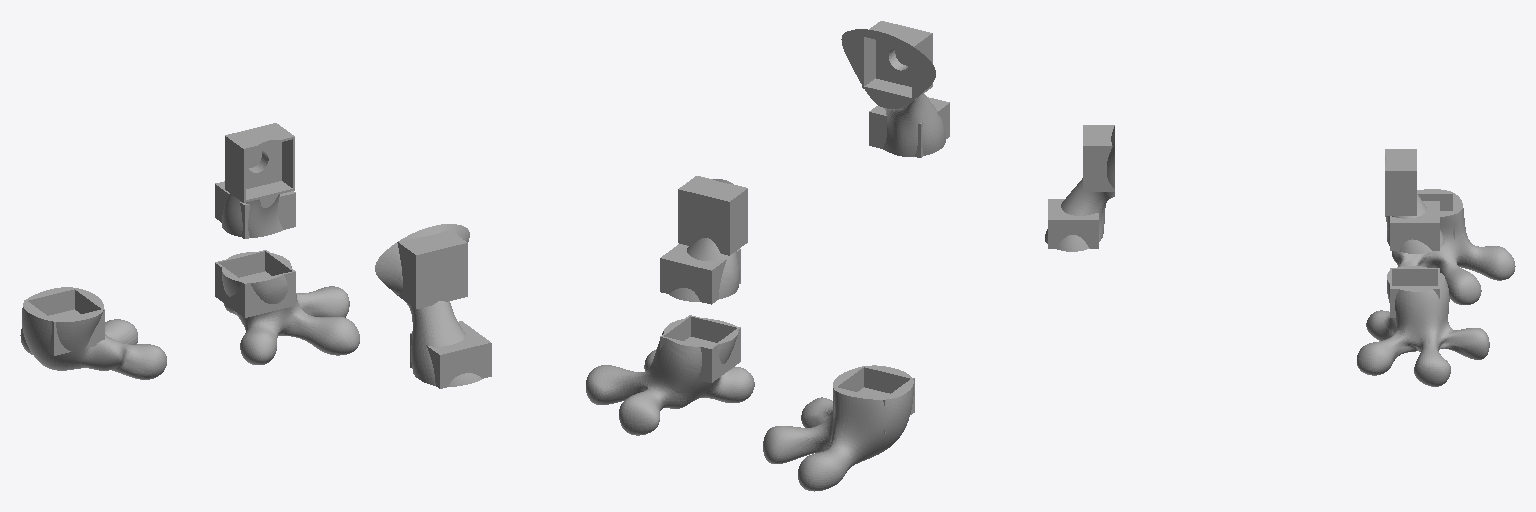
URDF robot description (FrogBot1_top-FrogBot1-y-0_bottom-FrogBot1-y-0):
<?xml version="1.0" ?>
<robot name="FrogBot1_top-FrogBot1-y-0_bottom-FrogBot1-y-0">

<material name="pla_5_percent_infill">
  <color rgba="0.700 0.700 0.700 1.000"/>
</material>

<link name="base_link">
  <inertial>
    <origin xyz="0 0 0" rpy="0 0 0"/>
    <mass value="1.4004497258118793"/>
    <inertia ixx="0.004654766674121702" iyy="0.011001674494048192" izz="0.011952500664607962" ixy="0.0001512981896173" iyz="8.432942841691681e-05" ixz="-0.0012085280118511537"/>
  </inertial>
  <visual>
    <origin xyz="0 0 0" rpy="0 0 0"/>
    <geometry>
      <mesh filename="simple_meshes/base_link.stl" scale="0.001 0.001 0.001"/>
    </geometry>
    <material name="pla_5_percent_infill"/>
  </visual>
  <collision>
    <origin xyz="0 0 0" rpy="0 0 0"/>
    <geometry>
      <mesh filename="simple_meshes/base_link.stl" scale="0.001 0.001 0.001"/>
    </geometry>
  </collision>
</link>

<link name="body_1_0_1">
  <inertial>
    <origin xyz="-0.045735 -0.109621 -0.00462" rpy="0 0 0"/>
    <mass value="0.02985675796874187"/>
    <inertia ixx="1.9965789332193075e-05" iyy="2.2269328809030093e-05" izz="1.237757588374124e-05" ixy="-3.4976885941156847e-07" iyz="1.6092377650222747e-06" ixz="3.671999030421702e-07"/>
  </inertial>
  <visual>
    <origin xyz="-0.045735 -0.109621 -0.00462" rpy="0 0 0"/>
    <geometry>
      <mesh filename="simple_meshes/body_1_0_1.stl" scale="0.001 0.001 0.001"/>
    </geometry>
    <material name="pla_5_percent_infill"/>
  </visual>
  <collision>
    <origin xyz="-0.045735 -0.109621 -0.00462" rpy="0 0 0"/>
    <geometry>
      <mesh filename="simple_meshes/body_1_0_1.stl" scale="0.001 0.001 0.001"/>
    </geometry>
  </collision>
</link>

<link name="body_1_1_1">
  <inertial>
    <origin xyz="0.086489 -0.109621 -0.018802" rpy="0 0 0"/>
    <mass value="0.053275121493263654"/>
    <inertia ixx="4.494924320703293e-05" iyy="5.271663552110521e-05" izz="3.476670392337563e-05" ixy="5.27992926881507e-06" iyz="8.686807295757253e-06" ixz="-1.442203618004261e-05"/>
  </inertial>
  <visual>
    <origin xyz="0.086489 -0.109621 -0.018802" rpy="0 0 0"/>
    <geometry>
      <mesh filename="simple_meshes/body_1_1_1.stl" scale="0.001 0.001 0.001"/>
    </geometry>
    <material name="pla_5_percent_infill"/>
  </visual>
  <collision>
    <origin xyz="0.086489 -0.109621 -0.018802" rpy="0 0 0"/>
    <geometry>
      <mesh filename="simple_meshes/body_1_1_1.stl" scale="0.001 0.001 0.001"/>
    </geometry>
  </collision>
</link>

<link name="body_1_2_1">
  <inertial>
    <origin xyz="-0.040267 0.109621 -0.027764" rpy="0 0 0"/>
    <mass value="0.04172224875919728"/>
    <inertia ixx="4.52033054099475e-05" iyy="4.523069432340121e-05" izz="1.9466059030194246e-05" ixy="5.043630176276436e-07" iyz="-8.936531513050563e-06" ixz="-1.8113554935331094e-07"/>
  </inertial>
  <visual>
    <origin xyz="-0.040267 0.109621 -0.027764" rpy="0 0 0"/>
    <geometry>
      <mesh filename="simple_meshes/body_1_2_1.stl" scale="0.001 0.001 0.001"/>
    </geometry>
    <material name="pla_5_percent_infill"/>
  </visual>
  <collision>
    <origin xyz="-0.040267 0.109621 -0.027764" rpy="0 0 0"/>
    <geometry>
      <mesh filename="simple_meshes/body_1_2_1.stl" scale="0.001 0.001 0.001"/>
    </geometry>
  </collision>
</link>

<link name="body_1_3_1">
  <inertial>
    <origin xyz="0.090407 0.109621 -0.022193" rpy="0 0 0"/>
    <mass value="0.056174967464945734"/>
    <inertia ixx="5.0714087468781664e-05" iyy="6.091726275633271e-05" izz="4.007261065643378e-05" ixy="-6.6082206118707465e-06" iyz="-1.0712778268412947e-05" ixz="-1.7655180141284206e-05"/>
  </inertial>
  <visual>
    <origin xyz="0.090407 0.109621 -0.022193" rpy="0 0 0"/>
    <geometry>
      <mesh filename="simple_meshes/body_1_3_1.stl" scale="0.001 0.001 0.001"/>
    </geometry>
    <material name="pla_5_percent_infill"/>
  </visual>
  <collision>
    <origin xyz="0.090407 0.109621 -0.022193" rpy="0 0 0"/>
    <geometry>
      <mesh filename="simple_meshes/body_1_3_1.stl" scale="0.001 0.001 0.001"/>
    </geometry>
  </collision>
</link>

<link name="body_2_0_1">
  <inertial>
    <origin xyz="-0.049562 -0.158797 0.075064" rpy="0 0 0"/>
    <mass value="0.08251740555525651"/>
    <inertia ixx="8.106255273684871e-05" iyy="8.893154428530519e-05" izz="0.0001232193056868577" ixy="-4.4170967081818766e-06" iyz="-1.608469961641816e-06" ixz="1.7699188966968193e-05"/>
  </inertial>
  <visual>
    <origin xyz="-0.049562 -0.158797 0.075064" rpy="0 0 0"/>
    <geometry>
      <mesh filename="simple_meshes/body_2_0_1.stl" scale="0.001 0.001 0.001"/>
    </geometry>
    <material name="pla_5_percent_infill"/>
  </visual>
  <collision>
    <origin xyz="-0.049562 -0.158797 0.075064" rpy="0 0 0"/>
    <geometry>
      <mesh filename="simple_meshes/body_2_0_1.stl" scale="0.001 0.001 0.001"/>
    </geometry>
  </collision>
</link>

<link name="body_2_1_1">
  <inertial>
    <origin xyz="0.121182 -0.172952 0.075064" rpy="0 0 0"/>
    <mass value="0.08523650293632644"/>
    <inertia ixx="8.320480295517189e-05" iyy="8.705693414718437e-05" izz="0.00012197956265966878" ixy="3.5528741173310174e-06" iyz="1.0871477220619763e-05" ixz="2.1334721156689076e-05"/>
  </inertial>
  <visual>
    <origin xyz="0.121182 -0.172952 0.075064" rpy="0 0 0"/>
    <geometry>
      <mesh filename="simple_meshes/body_2_1_1.stl" scale="0.001 0.001 0.001"/>
    </geometry>
    <material name="pla_5_percent_infill"/>
  </visual>
  <collision>
    <origin xyz="0.121182 -0.172952 0.075064" rpy="0 0 0"/>
    <geometry>
      <mesh filename="simple_meshes/body_2_1_1.stl" scale="0.001 0.001 0.001"/>
    </geometry>
  </collision>
</link>

<link name="body_2_2_1">
  <inertial>
    <origin xyz="-0.04311 0.169506 0.075064" rpy="0 0 0"/>
    <mass value="0.08378108136187434"/>
    <inertia ixx="9.006082595894565e-05" iyy="8.121880302503935e-05" izz="0.00012624519557985405" ixy="5.722796236582199e-07" iyz="-4.994704549210558e-06" ixz="1.2195561658612198e-05"/>
  </inertial>
  <visual>
    <origin xyz="-0.04311 0.169506 0.075064" rpy="0 0 0"/>
    <geometry>
      <mesh filename="simple_meshes/body_2_2_1.stl" scale="0.001 0.001 0.001"/>
    </geometry>
    <material name="pla_5_percent_infill"/>
  </visual>
  <collision>
    <origin xyz="-0.04311 0.169506 0.075064" rpy="0 0 0"/>
    <geometry>
      <mesh filename="simple_meshes/body_2_2_1.stl" scale="0.001 0.001 0.001"/>
    </geometry>
  </collision>
</link>

<link name="body_2_3_1">
  <inertial>
    <origin xyz="0.129712 0.174384 0.075064" rpy="0 0 0"/>
    <mass value="0.08379398246620173"/>
    <inertia ixx="8.948004701911285e-05" iyy="8.144872210769224e-05" izz="0.00011365197820321655" ixy="3.1693798347538424e-06" iyz="-1.6380802465583866e-05" ixz="2.1485763885160545e-05"/>
  </inertial>
  <visual>
    <origin xyz="0.129712 0.174384 0.075064" rpy="0 0 0"/>
    <geometry>
      <mesh filename="simple_meshes/body_2_3_1.stl" scale="0.001 0.001 0.001"/>
    </geometry>
    <material name="pla_5_percent_infill"/>
  </visual>
  <collision>
    <origin xyz="0.129712 0.174384 0.075064" rpy="0 0 0"/>
    <geometry>
      <mesh filename="simple_meshes/body_2_3_1.stl" scale="0.001 0.001 0.001"/>
    </geometry>
  </collision>
</link>

<joint name="joint_1_0" type="revolute">
  <origin xyz="0.045735 0.109621 0.00462" rpy="0 0 0"/>
  <parent link="base_link"/>
  <child link="body_1_0_1"/>
  <axis xyz="0.0 0.0 -1.0"/>
  <limit upper="1.2" lower="-1.2" effort="3.8" velocity="5.4"/>
</joint>
<transmission name="joint_1_0_tran">
  <type>transmission_interface/SimpleTransmission</type>
  <joint name="joint_1_0">
    <hardwareInterface>PositionJointInterface</hardwareInterface>
  </joint>
  <actuator name="joint_1_0_actr">
    <hardwareInterface>PositionJointInterface</hardwareInterface>
    <mechanicalReduction>1</mechanicalReduction>
  </actuator>
</transmission>

<joint name="joint_1_1" type="revolute">
  <origin xyz="-0.086489 0.109621 0.018802" rpy="0 0 0"/>
  <parent link="base_link"/>
  <child link="body_1_1_1"/>
  <axis xyz="0.0 0.0 -1.0"/>
  <limit upper="1.2" lower="-1.2" effort="3.8" velocity="5.4"/>
</joint>
<transmission name="joint_1_1_tran">
  <type>transmission_interface/SimpleTransmission</type>
  <joint name="joint_1_1">
    <hardwareInterface>PositionJointInterface</hardwareInterface>
  </joint>
  <actuator name="joint_1_1_actr">
    <hardwareInterface>PositionJointInterface</hardwareInterface>
    <mechanicalReduction>1</mechanicalReduction>
  </actuator>
</transmission>

<joint name="joint_1_2" type="revolute">
  <origin xyz="0.040267 -0.109621 0.027764" rpy="0 0 0"/>
  <parent link="base_link"/>
  <child link="body_1_2_1"/>
  <axis xyz="0.0 0.0 -1.0"/>
  <limit upper="1.2" lower="-1.2" effort="3.8" velocity="5.4"/>
</joint>
<transmission name="joint_1_2_tran">
  <type>transmission_interface/SimpleTransmission</type>
  <joint name="joint_1_2">
    <hardwareInterface>PositionJointInterface</hardwareInterface>
  </joint>
  <actuator name="joint_1_2_actr">
    <hardwareInterface>PositionJointInterface</hardwareInterface>
    <mechanicalReduction>1</mechanicalReduction>
  </actuator>
</transmission>

<joint name="joint_1_3" type="revolute">
  <origin xyz="-0.090407 -0.109621 0.022193" rpy="0 0 0"/>
  <parent link="base_link"/>
  <child link="body_1_3_1"/>
  <axis xyz="0.0 0.0 -1.0"/>
  <limit upper="1.2" lower="-1.2" effort="3.8" velocity="5.4"/>
</joint>
<transmission name="joint_1_3_tran">
  <type>transmission_interface/SimpleTransmission</type>
  <joint name="joint_1_3">
    <hardwareInterface>PositionJointInterface</hardwareInterface>
  </joint>
  <actuator name="joint_1_3_actr">
    <hardwareInterface>PositionJointInterface</hardwareInterface>
    <mechanicalReduction>1</mechanicalReduction>
  </actuator>
</transmission>

<joint name="joint_2_0" type="revolute">
  <origin xyz="0.003827 0.049176 -0.079684" rpy="0 0 0"/>
  <parent link="body_1_0_1"/>
  <child link="body_2_0_1"/>
  <axis xyz="0.0 1.0 0.0"/>
  <limit upper="1.2" lower="-1.2" effort="3.8" velocity="5.4"/>
</joint>
<transmission name="joint_2_0_tran">
  <type>transmission_interface/SimpleTransmission</type>
  <joint name="joint_2_0">
    <hardwareInterface>PositionJointInterface</hardwareInterface>
  </joint>
  <actuator name="joint_2_0_actr">
    <hardwareInterface>PositionJointInterface</hardwareInterface>
    <mechanicalReduction>1</mechanicalReduction>
  </actuator>
</transmission>

<joint name="joint_2_1" type="revolute">
  <origin xyz="-0.034693 0.063331 -0.093866" rpy="0 0 0"/>
  <parent link="body_1_1_1"/>
  <child link="body_2_1_1"/>
  <axis xyz="0.0 1.0 0.0"/>
  <limit upper="1.2" lower="-1.2" effort="3.8" velocity="5.4"/>
</joint>
<transmission name="joint_2_1_tran">
  <type>transmission_interface/SimpleTransmission</type>
  <joint name="joint_2_1">
    <hardwareInterface>PositionJointInterface</hardwareInterface>
  </joint>
  <actuator name="joint_2_1_actr">
    <hardwareInterface>PositionJointInterface</hardwareInterface>
    <mechanicalReduction>1</mechanicalReduction>
  </actuator>
</transmission>

<joint name="joint_2_2" type="revolute">
  <origin xyz="0.002843 -0.059885 -0.102828" rpy="0 0 0"/>
  <parent link="body_1_2_1"/>
  <child link="body_2_2_1"/>
  <axis xyz="0.0 1.0 0.0"/>
  <limit upper="1.2" lower="-1.2" effort="3.8" velocity="5.4"/>
</joint>
<transmission name="joint_2_2_tran">
  <type>transmission_interface/SimpleTransmission</type>
  <joint name="joint_2_2">
    <hardwareInterface>PositionJointInterface</hardwareInterface>
  </joint>
  <actuator name="joint_2_2_actr">
    <hardwareInterface>PositionJointInterface</hardwareInterface>
    <mechanicalReduction>1</mechanicalReduction>
  </actuator>
</transmission>

<joint name="joint_2_3" type="revolute">
  <origin xyz="-0.039305 -0.064763 -0.097257" rpy="0 0 0"/>
  <parent link="body_1_3_1"/>
  <child link="body_2_3_1"/>
  <axis xyz="0.0 1.0 0.0"/>
  <limit upper="1.2" lower="-1.2" effort="3.8" velocity="5.4"/>
</joint>
<transmission name="joint_2_3_tran">
  <type>transmission_interface/SimpleTransmission</type>
  <joint name="joint_2_3">
    <hardwareInterface>PositionJointInterface</hardwareInterface>
  </joint>
  <actuator name="joint_2_3_actr">
    <hardwareInterface>PositionJointInterface</hardwareInterface>
    <mechanicalReduction>1</mechanicalReduction>
  </actuator>
</transmission>

</robot>

--- What the picture shows (computed from the rendered views, not written in the file) ---
The picture shows the robot from 3 angles, left to right: view 1: azimuth 30°, elevation 25°; view 2: azimuth 150°, elevation 25°; view 3: azimuth 270°, elevation 25°; orthographic projection.
Robot: FrogBot1_top-FrogBot1-y-0_bottom-FrogBot1-y-0 — 9 links, 8 joints (8 revolute); root link base_link; default pose: all joints at 0.
Links seen in each view (by area): view 1: body_1_2_1, body_2_0_1, body_2_1_1, body_1_0_1; view 2: body_2_1_1, body_2_0_1, body_1_2_1, body_1_0_1; view 3: body_2_0_1, body_1_2_1, body_2_1_1, body_1_0_1.
Link boxes in pixels (x1,y1,x2,y2): body_1_2_1: (375,224,491,388); body_2_0_1: (215,250,359,364); body_2_1_1: (20,287,166,379); body_1_0_1: (215,123,295,238); body_2_1_1: (763,365,914,491); body_2_0_1: (586,315,754,435); body_1_2_1: (841,21,949,157); body_1_0_1: (660,176,747,304); body_2_0_1: (1357,266,1489,386); body_1_2_1: (1045,125,1114,251); body_2_1_1: (1392,189,1515,304); body_1_0_1: (1385,149,1444,253).
Size in the robot's own frame: 0.2983 by 0.4523 by 0.2285 metres.
4 mesh visuals loaded from 9 distinct referenced files (4 binary STL); not drawn: 5 (reference not matched to a file when rendering).